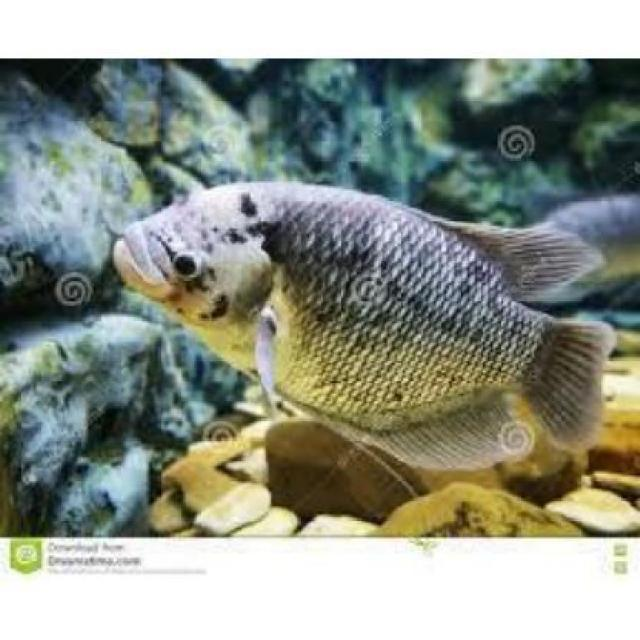gurame: (116, 178, 602, 468)
